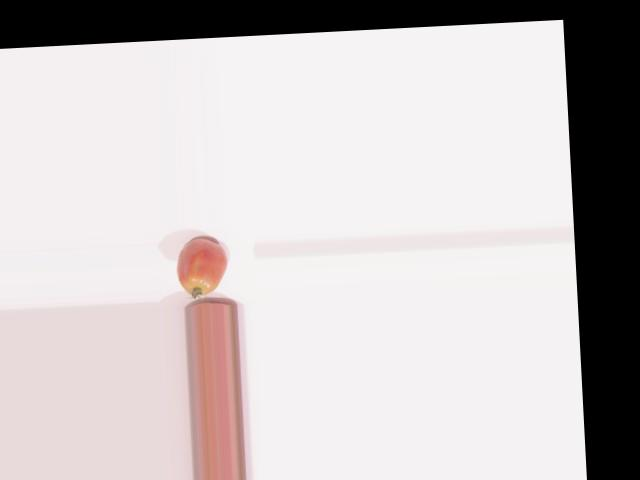tomato: (176, 238, 229, 296)
